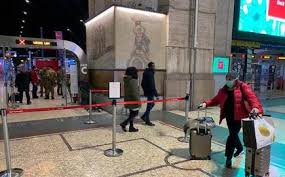mask: (225, 69, 240, 90), (147, 60, 155, 70)
